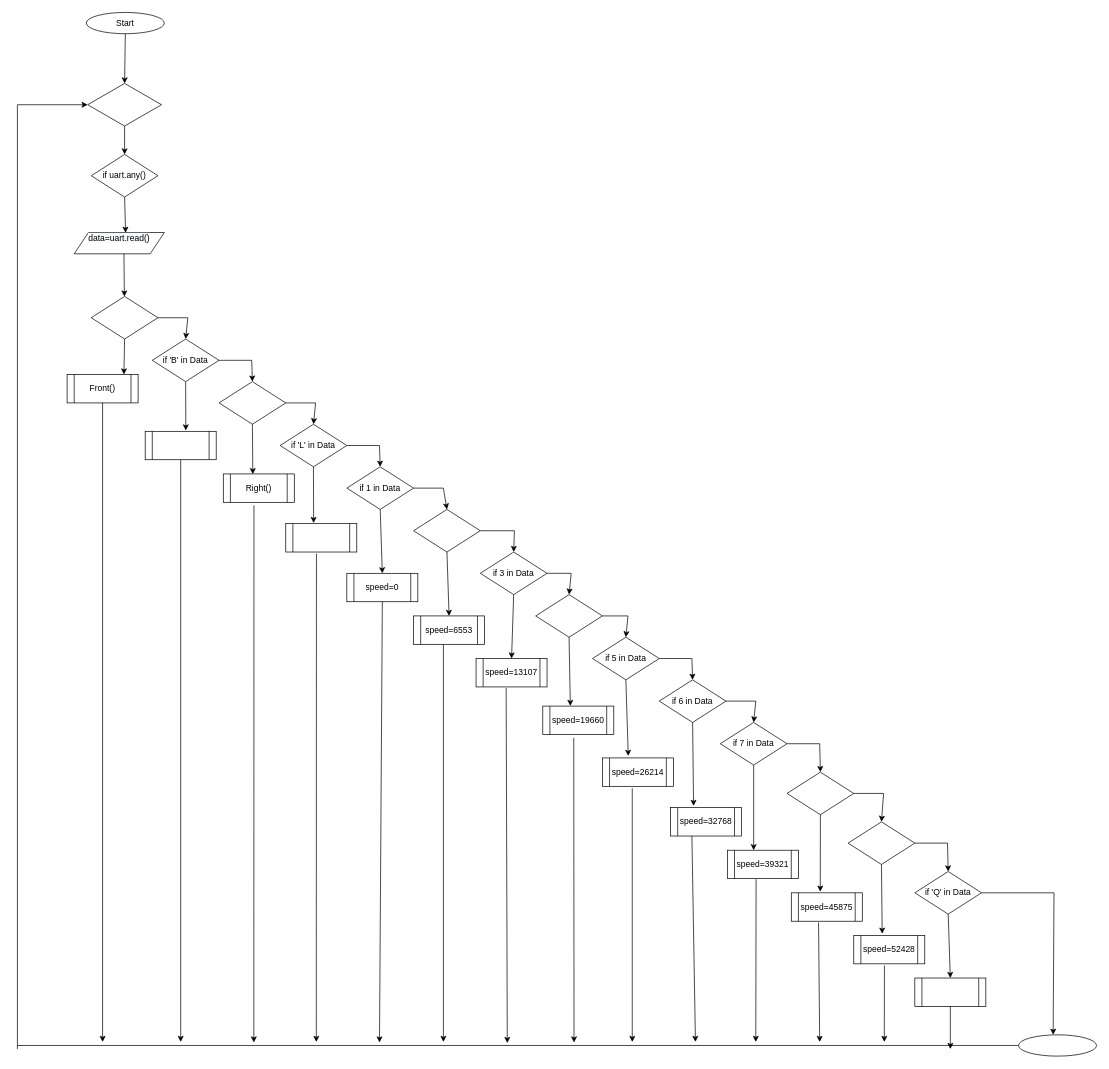
Image size: 1109x1069. Some labels were removed from this diagram. The shapes that lost their labels are listed below. From the top down, each one's centre as x and y in pixels, then its label:
pixel 124 104: While True
pixel 124 317: if 'F' in Data
pixel 252 402: if 'R' in Data
pixel 180 445: Back()
pixel 321 537: Light()
pixel 446 530: if 2 in Data
pixel 568 615: if 4 in Data
pixel 820 793: if 8 in Data
pixel 881 842: if 9 in Data
pixel 950 991: speed=65536
pixel 1057 1045: Stop
